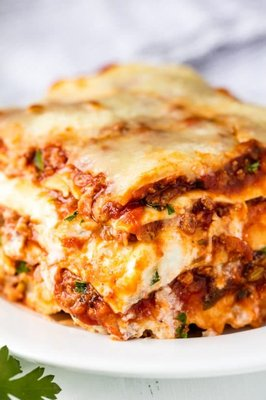soup: (0, 60, 265, 345)
